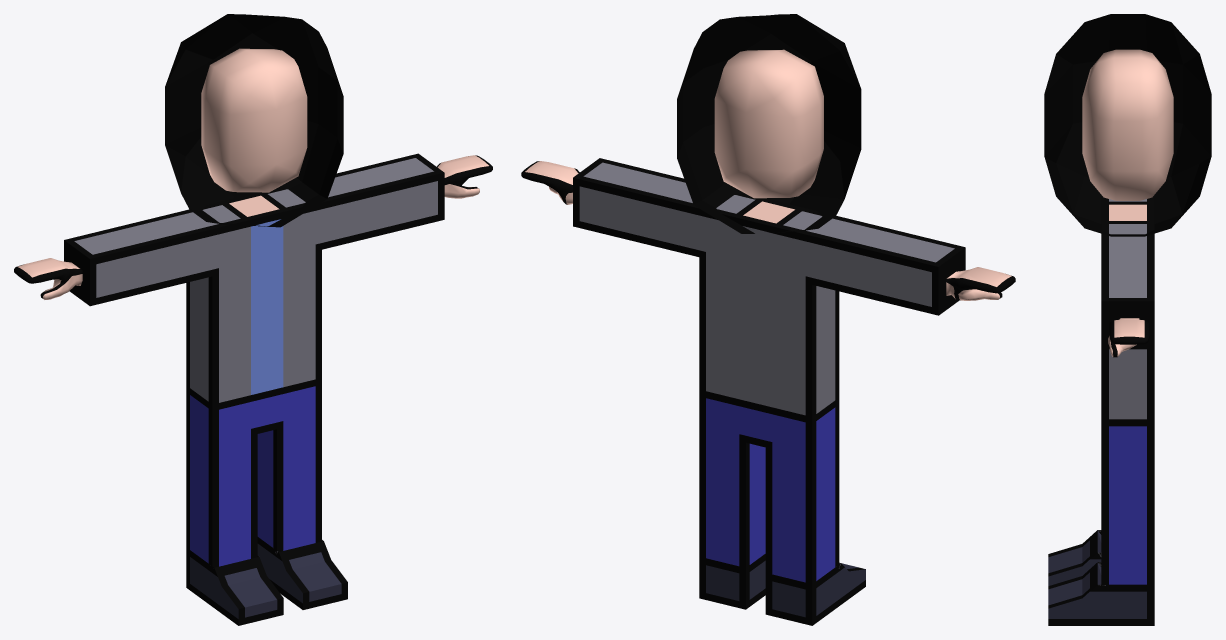
File: Human.fbx
The picture shows the model from 3 angles, left to right: view 1: azimuth 30°, elevation 25°; view 2: azimuth 150°, elevation 25°; view 3: azimuth 270°, elevation 25°; orthographic projection. The views are drawn at different scales.
Visible parts, largest first — view 1: Body, Head.001, Head; view 2: Body, Head.001, Head; view 3: Body, Head.001, Head.
Boxes of the visible parts, left/top/right/bottom form: Body: left=14, top=153, right=492, bottom=625; Head.001: left=165, top=14, right=343, bottom=227; Head: left=201, top=48, right=307, bottom=192; Body: left=521, top=158, right=1015, bottom=625; Head.001: left=677, top=14, right=861, bottom=233; Head: left=714, top=49, right=823, bottom=198; Body: left=1048, top=195, right=1154, bottom=625; Head.001: left=1044, top=14, right=1211, bottom=236; Head: left=1082, top=49, right=1173, bottom=200.
Size of the model in its own units: 0.9029 by 1.04 by 0.2747.
